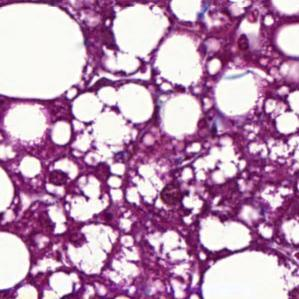steatosis: (0, 228, 30, 290), (276, 22, 299, 61)
